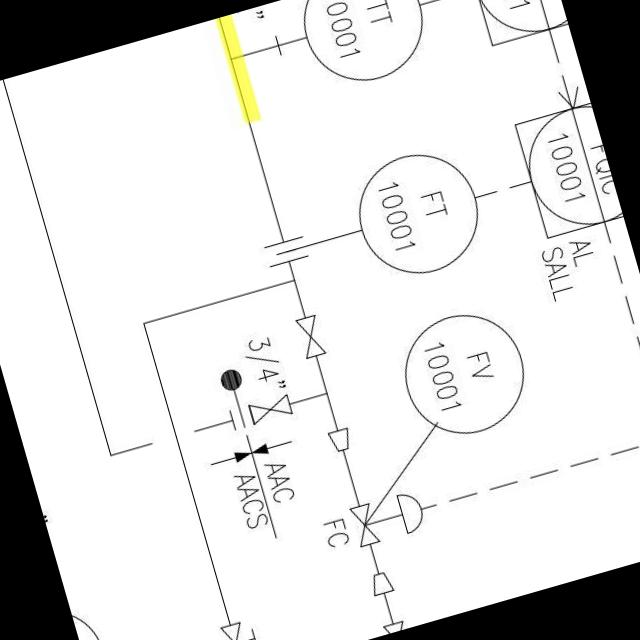FC: (342, 482, 432, 556)
GV: (288, 304, 336, 363), (241, 386, 301, 431)
HV: (216, 612, 270, 640)
SP: (320, 418, 360, 456), (361, 563, 399, 599)
